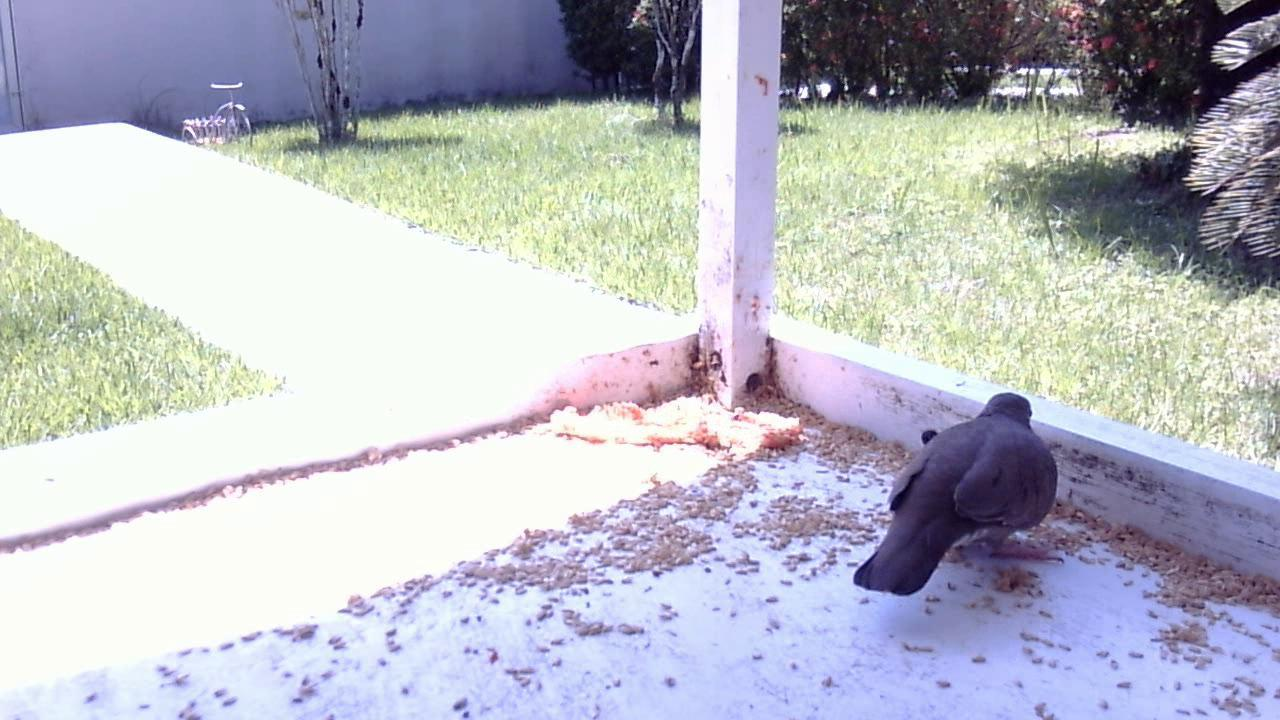rolinha: (846, 381, 1067, 608)
